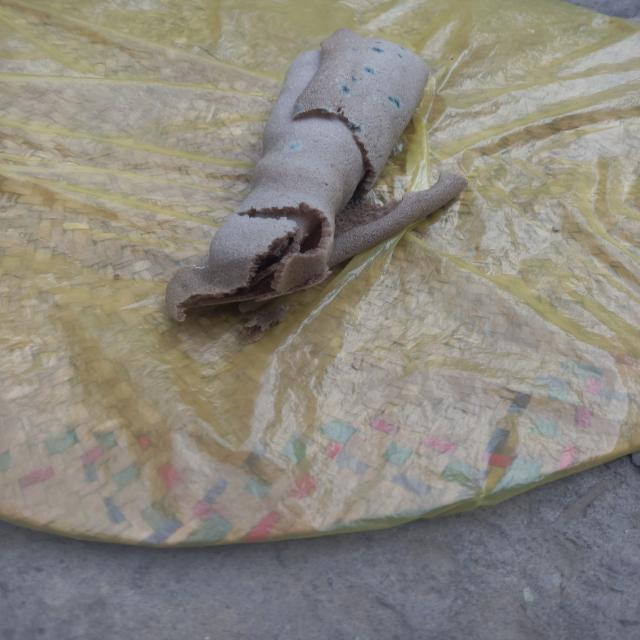injera_mold: (348, 117, 364, 138), (387, 96, 404, 108), (291, 102, 305, 114), (338, 85, 353, 95), (347, 74, 362, 83), (288, 141, 300, 152), (319, 106, 330, 115), (364, 66, 375, 74), (193, 266, 210, 270), (396, 52, 404, 60), (373, 47, 383, 52), (374, 40, 382, 46), (350, 47, 359, 52), (334, 79, 341, 85), (399, 46, 404, 50)
